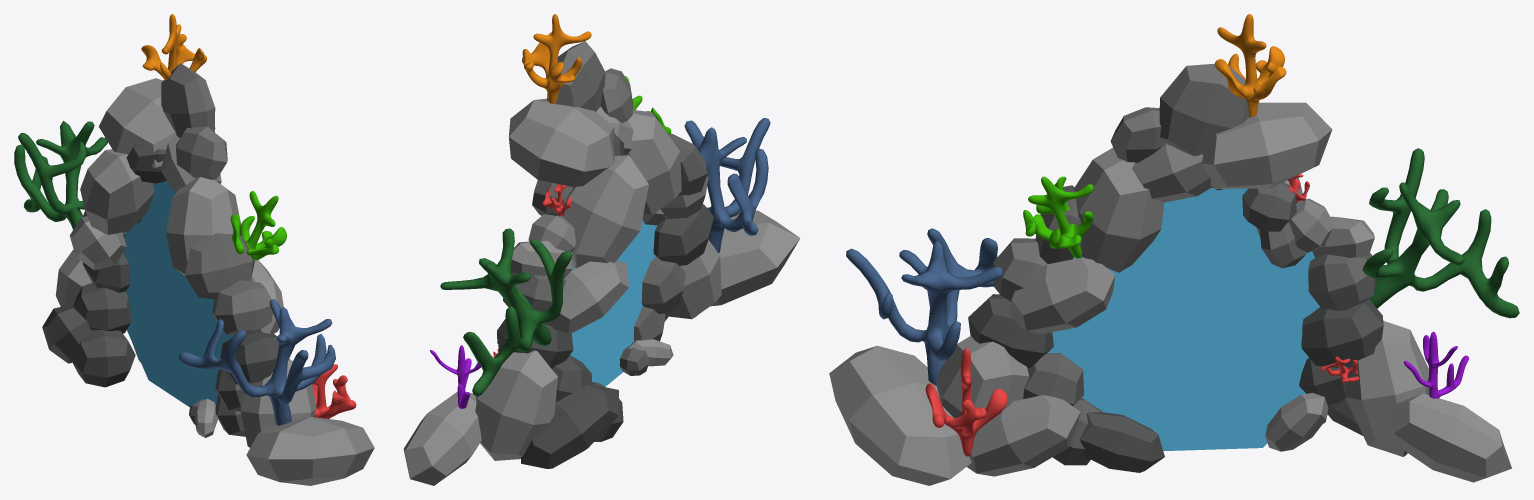
The model's file is Portal.fbx.
The picture shows the model from 3 angles, left to right: view 1: azimuth 30°, elevation 25°; view 2: azimuth 150°, elevation 25°; view 3: azimuth 270°, elevation 25°; orthographic projection. The views are drawn at different scales.
Visible parts, largest first — view 1: Plane, Cube.028, Cube.033, Cube.039, Cube.016, Cube.019, Cube.029, Cube.005, Cube.030, Cube.009, Cube.007, Cube.031 (+16 smaller); view 2: Cube.029, Cube.039, Cube.014, Cube.016, Cube.033, Plane, Cube.020, Cube.008, Cube.028, Cube.012, Cube.019, Cube.037 (+19 smaller); view 3: Plane, Cube.028, Cube.039, Cube.029, Cube.033, Cube.020, Cube.019, Cube, Cube.014, Cube.004, Cube.030, Cube.006 (+20 smaller).
Part boxes in pixels (x1,y1,x2,y2): Plane: (123, 180, 233, 407); Cube.028: (246, 416, 374, 485); Cube.033: (179, 299, 335, 425); Cube.039: (14, 121, 107, 229); Cube.016: (80, 149, 154, 234); Cube.019: (166, 177, 240, 275); Cube.029: (98, 78, 215, 168); Cube.005: (185, 233, 254, 299); Cube.030: (161, 63, 215, 137); Cube.009: (70, 330, 135, 387); Cube.007: (212, 280, 272, 335); Cube.031: (175, 126, 227, 179); Cube.029: (509, 98, 614, 186); Cube.039: (440, 228, 572, 396); Cube.014: (475, 350, 557, 460); Cube.016: (563, 155, 648, 268); Cube.033: (684, 118, 770, 253); Plane: (557, 214, 657, 386); Cube.020: (403, 391, 481, 485); Cube.008: (521, 384, 618, 468); Cube.028: (710, 210, 800, 306); Cube.012: (544, 260, 628, 333); Cube.019: (626, 110, 681, 214); Cube.037: (522, 14, 591, 103); Plane: (1047, 187, 1319, 451); Cube.028: (829, 345, 971, 485); Cube.039: (1362, 148, 1519, 318); Cube.029: (1201, 102, 1332, 188); Cube.033: (846, 228, 1002, 385); Cube.020: (1385, 393, 1511, 482); Cube.019: (1073, 147, 1164, 272); Cube: (967, 395, 1080, 476); Cube.014: (1345, 321, 1429, 456); Cube.004: (1009, 257, 1115, 333); Cube.030: (1159, 63, 1249, 155); Cube.006: (936, 336, 1028, 417).
Size of the model in its own units: 495 by 1183 by 1636.
